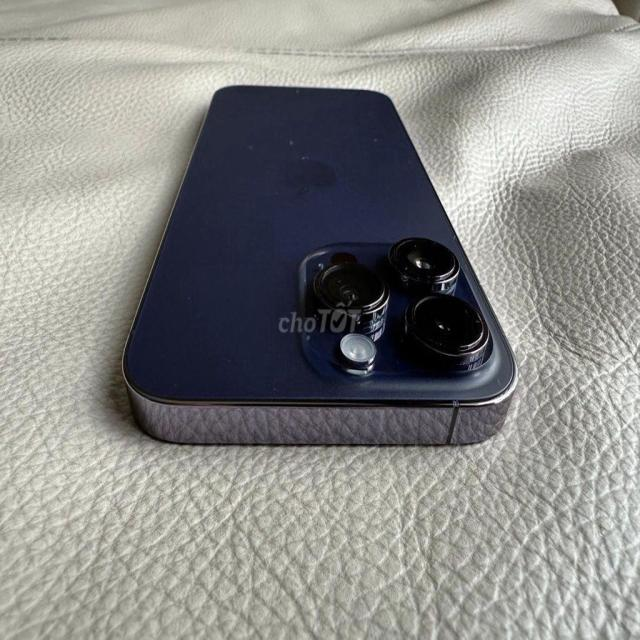gen_14: (119, 80, 527, 463)
scratch: (281, 127, 320, 165), (364, 120, 384, 161), (242, 129, 256, 154), (292, 81, 304, 98)
